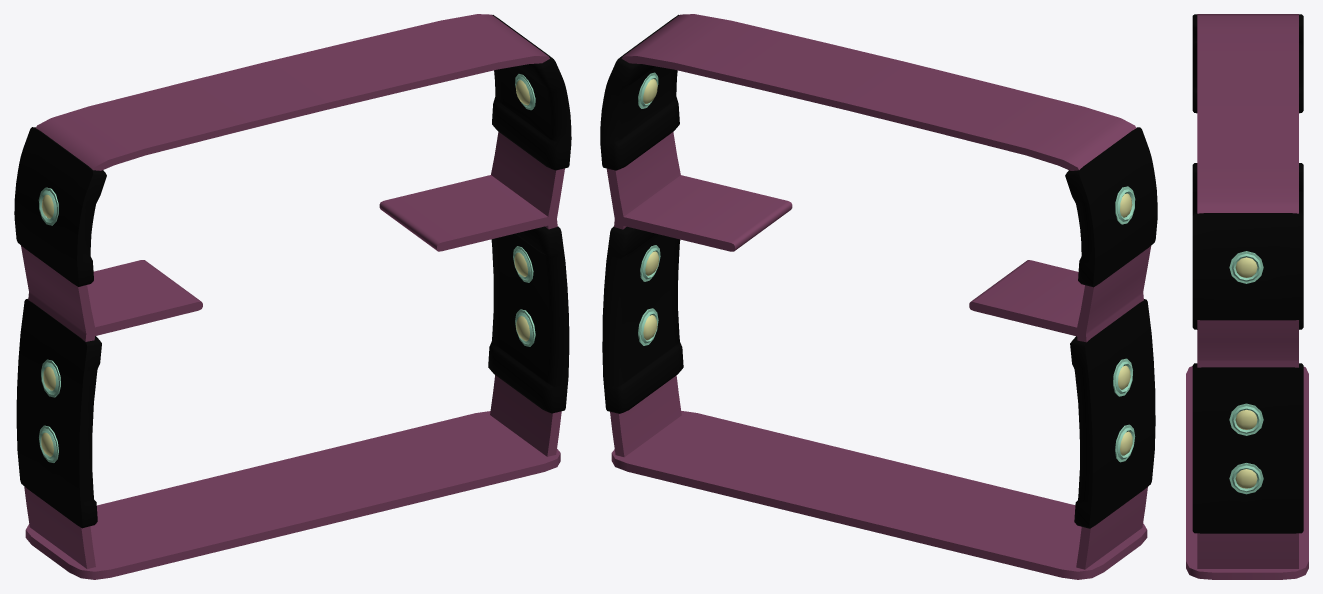
File: piece.FBX
3 renders of one model, left to right at view 1: azimuth 30°, elevation 25°; view 2: azimuth 150°, elevation 25°; view 3: azimuth 270°, elevation 25°, orthographic. The views are drawn at different scales.
Visible parts, largest first — view 1: murs, sol, hublot, hublot_verre; view 2: murs, sol, hublot, hublot_verre; view 3: murs, sol, hublot, hublot_verre.
Boxes of the visible parts, x1=… form: murs: x1=14, y1=14, x2=571, y2=568; sol: x1=25, y1=411, x2=560, y2=579; hublot: x1=38, y1=74, x2=535, y2=462; hublot_verre: x1=41, y1=80, x2=530, y2=456; murs: x1=600, y1=14, x2=1157, y2=569; sol: x1=611, y1=411, x2=1147, y2=579; hublot: x1=638, y1=72, x2=1135, y2=462; hublot_verre: x1=643, y1=79, x2=1132, y2=455; murs: x1=1192, y1=14, x2=1303, y2=568; sol: x1=1186, y1=366, x2=1308, y2=579; hublot: x1=1229, y1=251, x2=1263, y2=494; hublot_verre: x1=1235, y1=257, x2=1257, y2=488.
Bounding box in the file's own units: 1515 × 1209 × 364.
